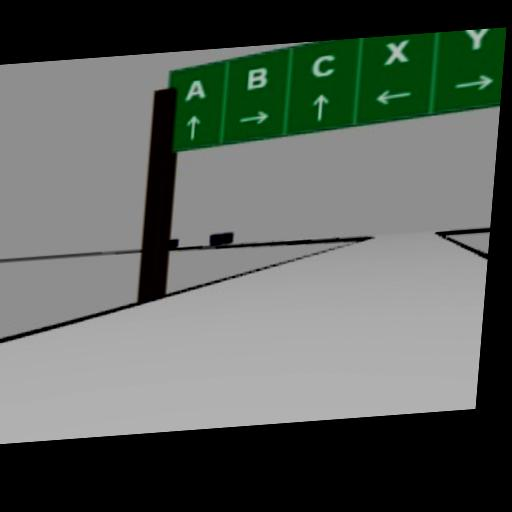A: (184, 78, 207, 100)
B: (245, 65, 269, 90)
C: (309, 52, 337, 80)
Left: (372, 87, 412, 105)
Right: (454, 74, 491, 92), (236, 110, 269, 127)
Straight: (311, 94, 328, 122), (184, 113, 201, 141)
X: (381, 39, 409, 65)
Y: (463, 28, 493, 50)
